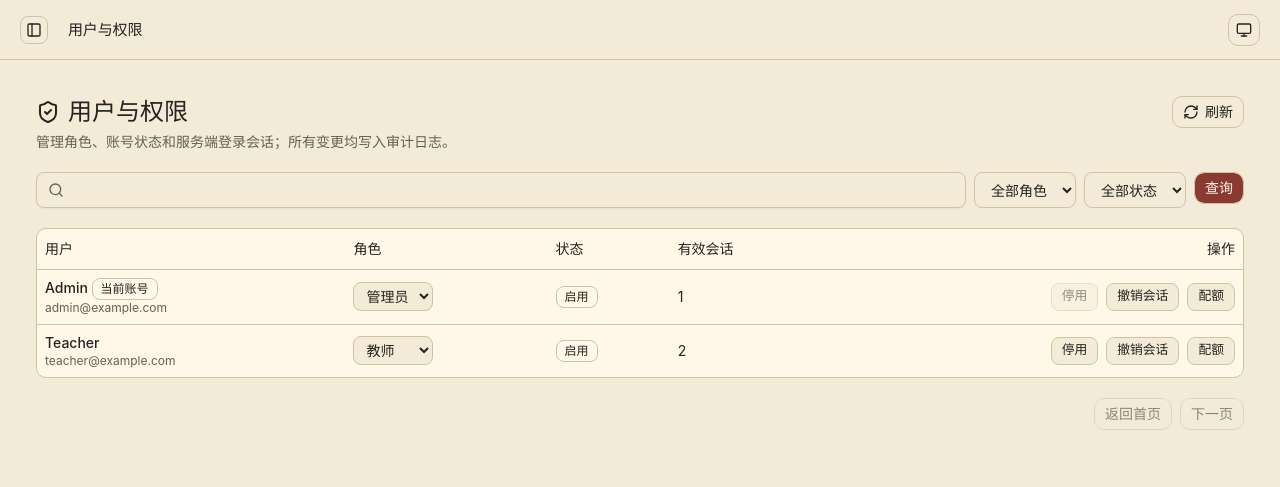
lists users, prevents self-demotion, changes roles, and revokes sessions
The image size is (1280, 487).
Check: the heading "用户与权限" is shown, box left=36, top=97, right=188, bottom=126
Click the button "撤销会话" in the row of "teacher@example.com". click: x=1143, y=350
box: left=1106, top=336, right=1179, bottom=364
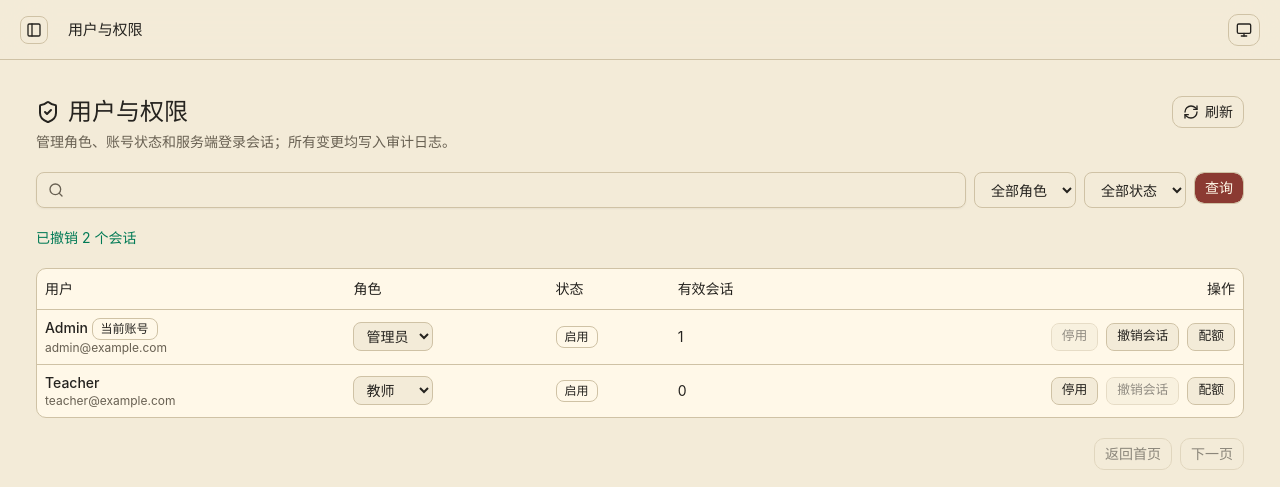
Check: the text "已撤销 2 个会话" is shown, box left=36, top=229, right=136, bottom=246
Select "学生" in the dropdown named "修改 teacher@example.com 的角色". click: x=393, y=390
box: left=353, top=376, right=433, bottom=405
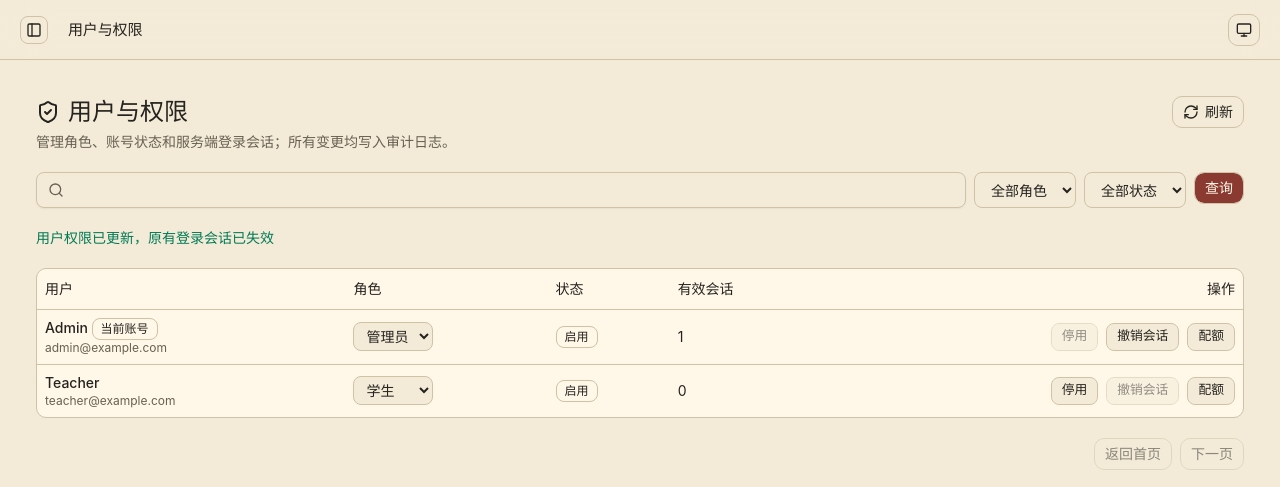
Check: the text "用户权限已更新，原有登录会话已失效" is shown, box left=36, top=229, right=274, bottom=246
